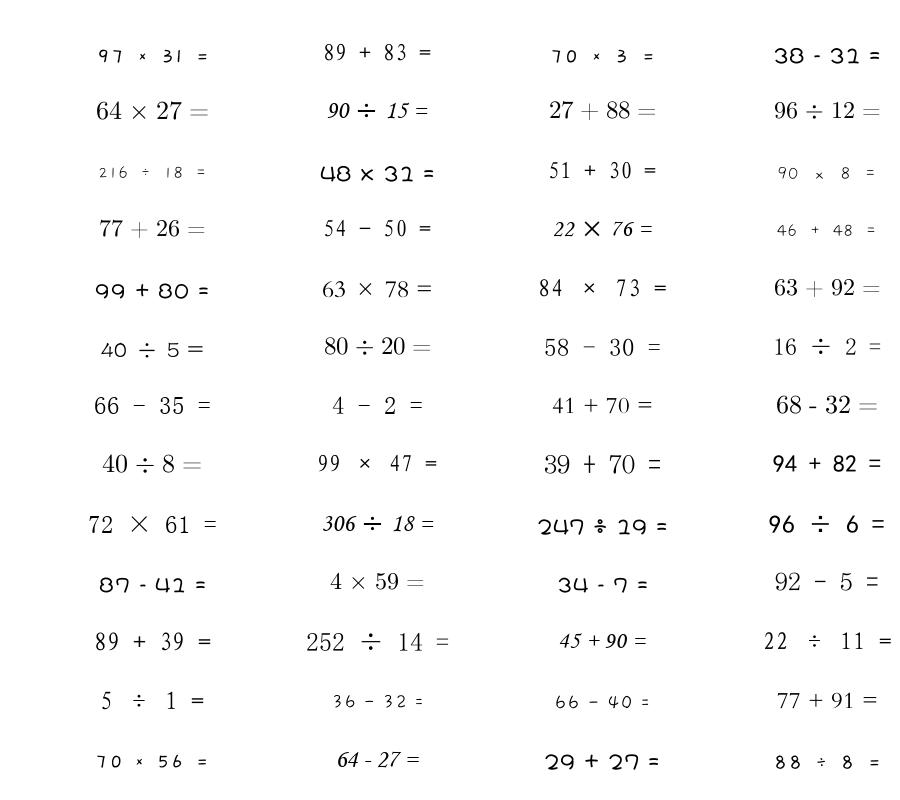MQ: (306, 632, 449, 651), (544, 454, 661, 474), (538, 279, 667, 297), (763, 632, 892, 650), (94, 632, 211, 651), (88, 516, 217, 533), (317, 454, 437, 472), (96, 101, 209, 120), (549, 101, 656, 121), (544, 338, 661, 356), (537, 519, 668, 535), (769, 515, 885, 533), (99, 219, 206, 238), (774, 278, 881, 297), (94, 397, 211, 414), (775, 572, 879, 591), (100, 691, 204, 710), (320, 165, 435, 182), (323, 43, 431, 61), (548, 161, 656, 179), (323, 219, 431, 237), (776, 395, 878, 414), (774, 101, 881, 119), (324, 337, 431, 355), (321, 515, 434, 532), (102, 454, 202, 473), (322, 281, 433, 298), (544, 754, 660, 770), (773, 47, 881, 64), (773, 338, 881, 355), (773, 455, 881, 472), (95, 283, 209, 299), (326, 102, 428, 119), (552, 397, 653, 414), (777, 692, 878, 709), (99, 577, 206, 593), (330, 572, 425, 590), (101, 342, 204, 358), (332, 396, 423, 414), (552, 221, 652, 237), (95, 754, 209, 768), (96, 49, 209, 63), (773, 755, 881, 769), (550, 49, 655, 63), (557, 577, 648, 593), (554, 695, 650, 710), (335, 751, 419, 768), (98, 166, 207, 179), (777, 166, 877, 180), (331, 694, 424, 709), (558, 633, 646, 648), (777, 224, 877, 237)
